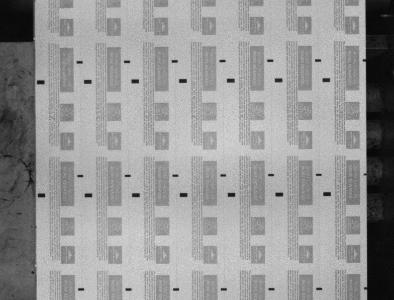backgroundclutter: (31, 271, 35, 274), (34, 264, 37, 267)
incorrect qblock: (364, 287, 368, 290), (364, 173, 368, 176), (363, 59, 367, 62)
qblock: (180, 192, 188, 197), (228, 192, 236, 197), (131, 79, 139, 84), (179, 78, 187, 83), (84, 79, 92, 84), (227, 78, 235, 83), (37, 193, 45, 198), (276, 192, 284, 196), (132, 193, 140, 197), (37, 80, 45, 84), (324, 192, 332, 196), (275, 78, 283, 82), (323, 78, 331, 82), (85, 193, 92, 197)
smallqblock: (76, 60, 83, 64), (125, 288, 132, 291), (173, 288, 180, 291), (316, 287, 323, 290), (77, 174, 84, 177), (267, 59, 274, 62), (315, 59, 322, 62), (220, 174, 227, 177), (269, 287, 275, 290), (78, 288, 84, 291), (124, 60, 130, 63), (172, 60, 178, 63), (220, 59, 226, 62), (316, 173, 322, 176), (125, 174, 131, 177), (173, 174, 179, 177), (268, 174, 275, 176), (221, 288, 227, 290)
